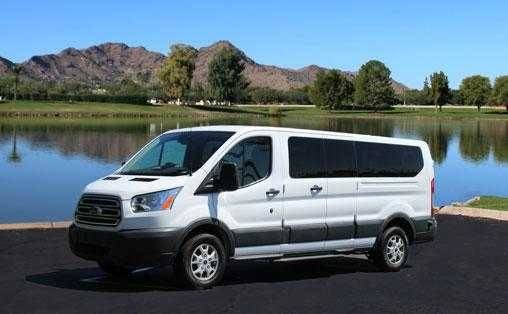van: (67, 124, 438, 290)
